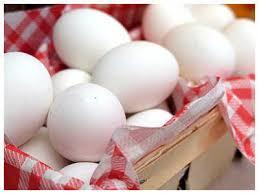egg: (51, 82, 127, 160), (95, 39, 180, 108), (51, 6, 132, 70), (2, 49, 52, 146), (162, 22, 237, 77)
